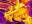Hotspot: (3, 0, 31, 23)
